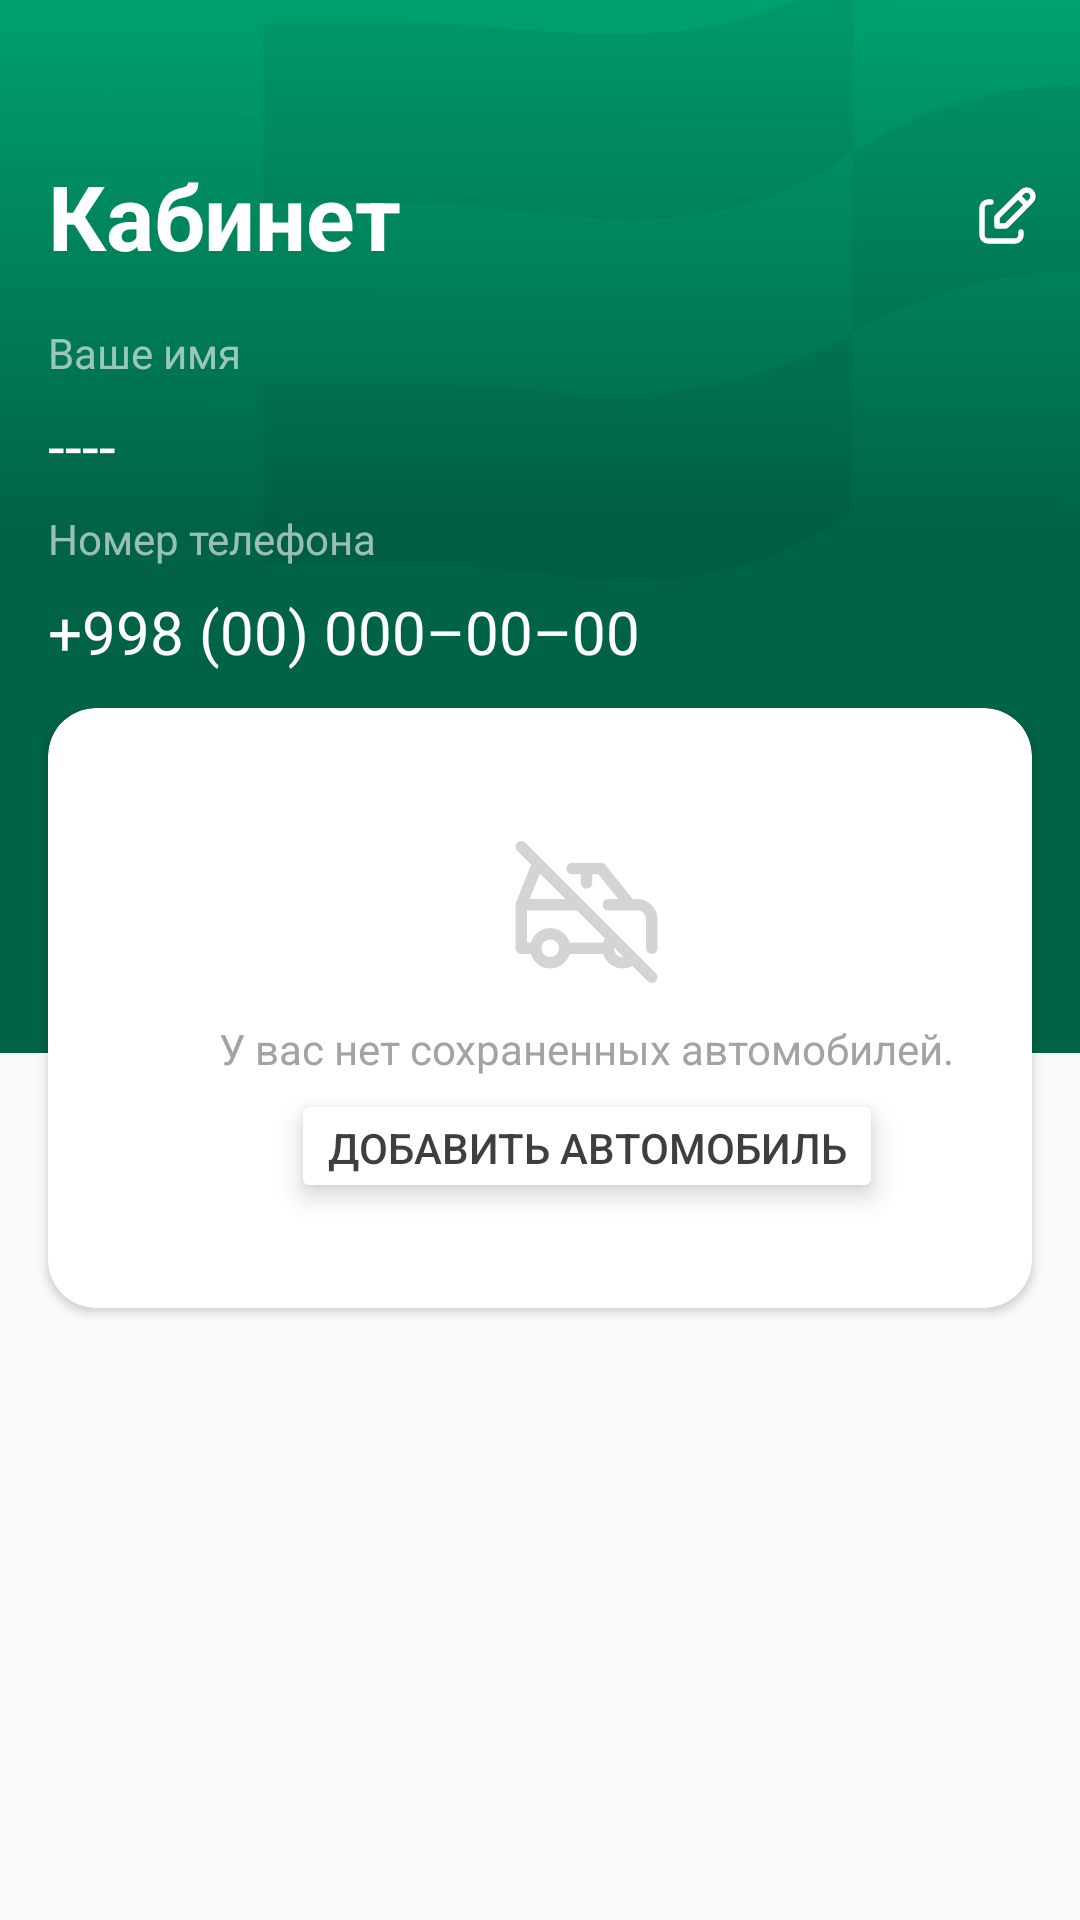

Icon bounding boxes for this 1080px x 1920px phone screenshot, format (x1, y1, x2, y2):
cabibet not car iv: (516, 841, 657, 983)
